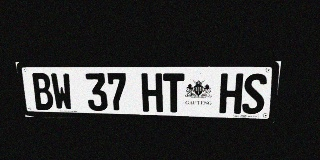3: (85, 73, 108, 111)
7: (106, 73, 128, 111)
B: (30, 73, 55, 110)
H: (219, 73, 244, 114), (141, 73, 163, 112)
S: (241, 73, 268, 114)
T: (163, 73, 184, 113)
W: (50, 73, 74, 110)
